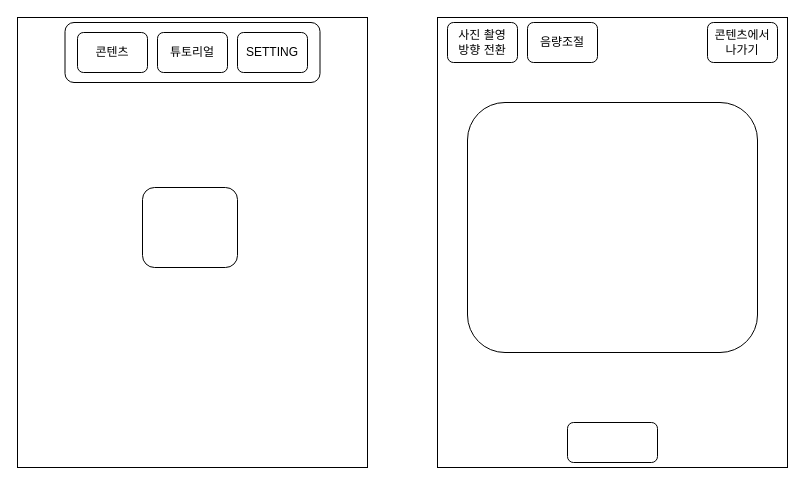
Some shapes in this 805 by 485 pixel diagram are drawn without their labels. Each missing label, with the centre of its shape:
"마커" belongs at pixel 190 227.
"증강현실 콘텐츠 동작" belongs at pixel 612 227.
"촬영" belongs at pixel 612 442.
